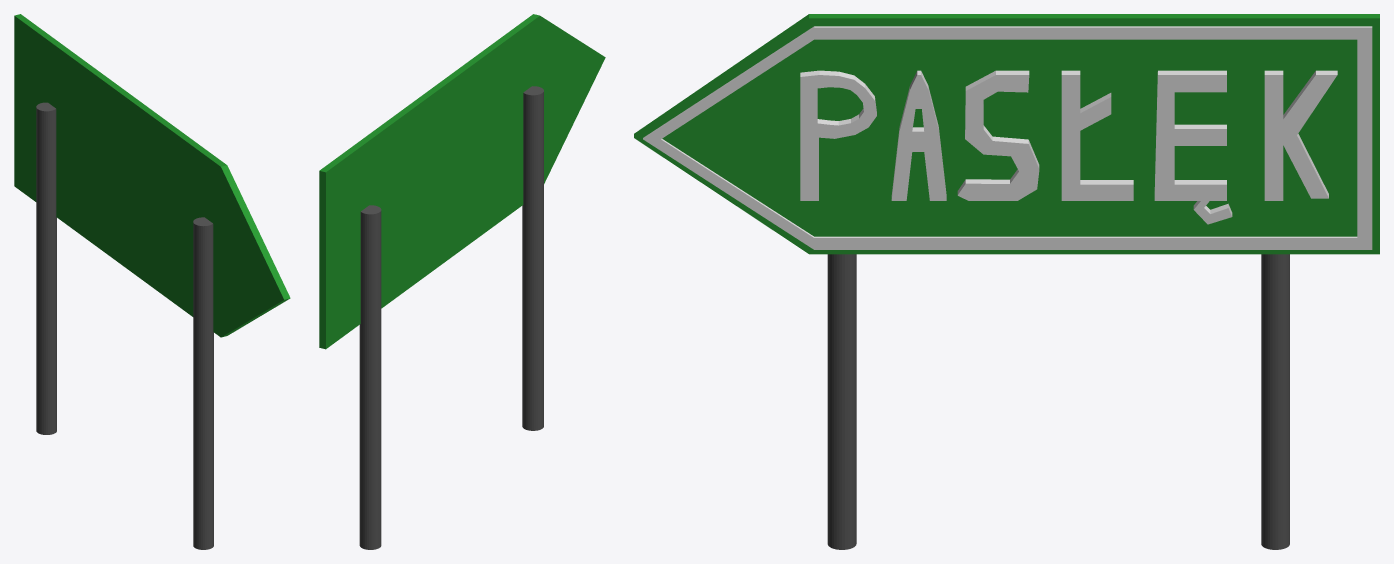
Rendered from znak-lewy.fbx.
3 views of the same model, side by side, from view 1: azimuth 30°, elevation 25°; view 2: azimuth 150°, elevation 25°; view 3: azimuth 270°, elevation 25° (orthographic). The views are drawn at different scales.
Parts seen in each view (by area): view 1: Cube.001, Cylinder.002, Cylinder.003; view 2: Cube.001, Cylinder.003, Cylinder.002; view 3: Cube.001, Cube.003, Cube.006, Cylinder.002, Cylinder.003.
Part boxes in pixels (<box>): Cube.001: <box>14,14,290,337</box>; Cylinder.002: <box>193,217,213,549</box>; Cylinder.003: <box>36,102,56,434</box>; Cube.001: <box>319,14,605,349</box>; Cylinder.003: <box>359,205,381,549</box>; Cylinder.002: <box>522,86,543,430</box>; Cube.001: <box>634,14,1379,254</box>; Cube.003: <box>800,70,1337,224</box>; Cube.006: <box>643,26,1372,249</box>; Cylinder.002: <box>827,254,856,549</box>; Cylinder.003: <box>1261,254,1289,549</box>.
Bounding box in the file's own units: 36.13 × 488 × 618.
